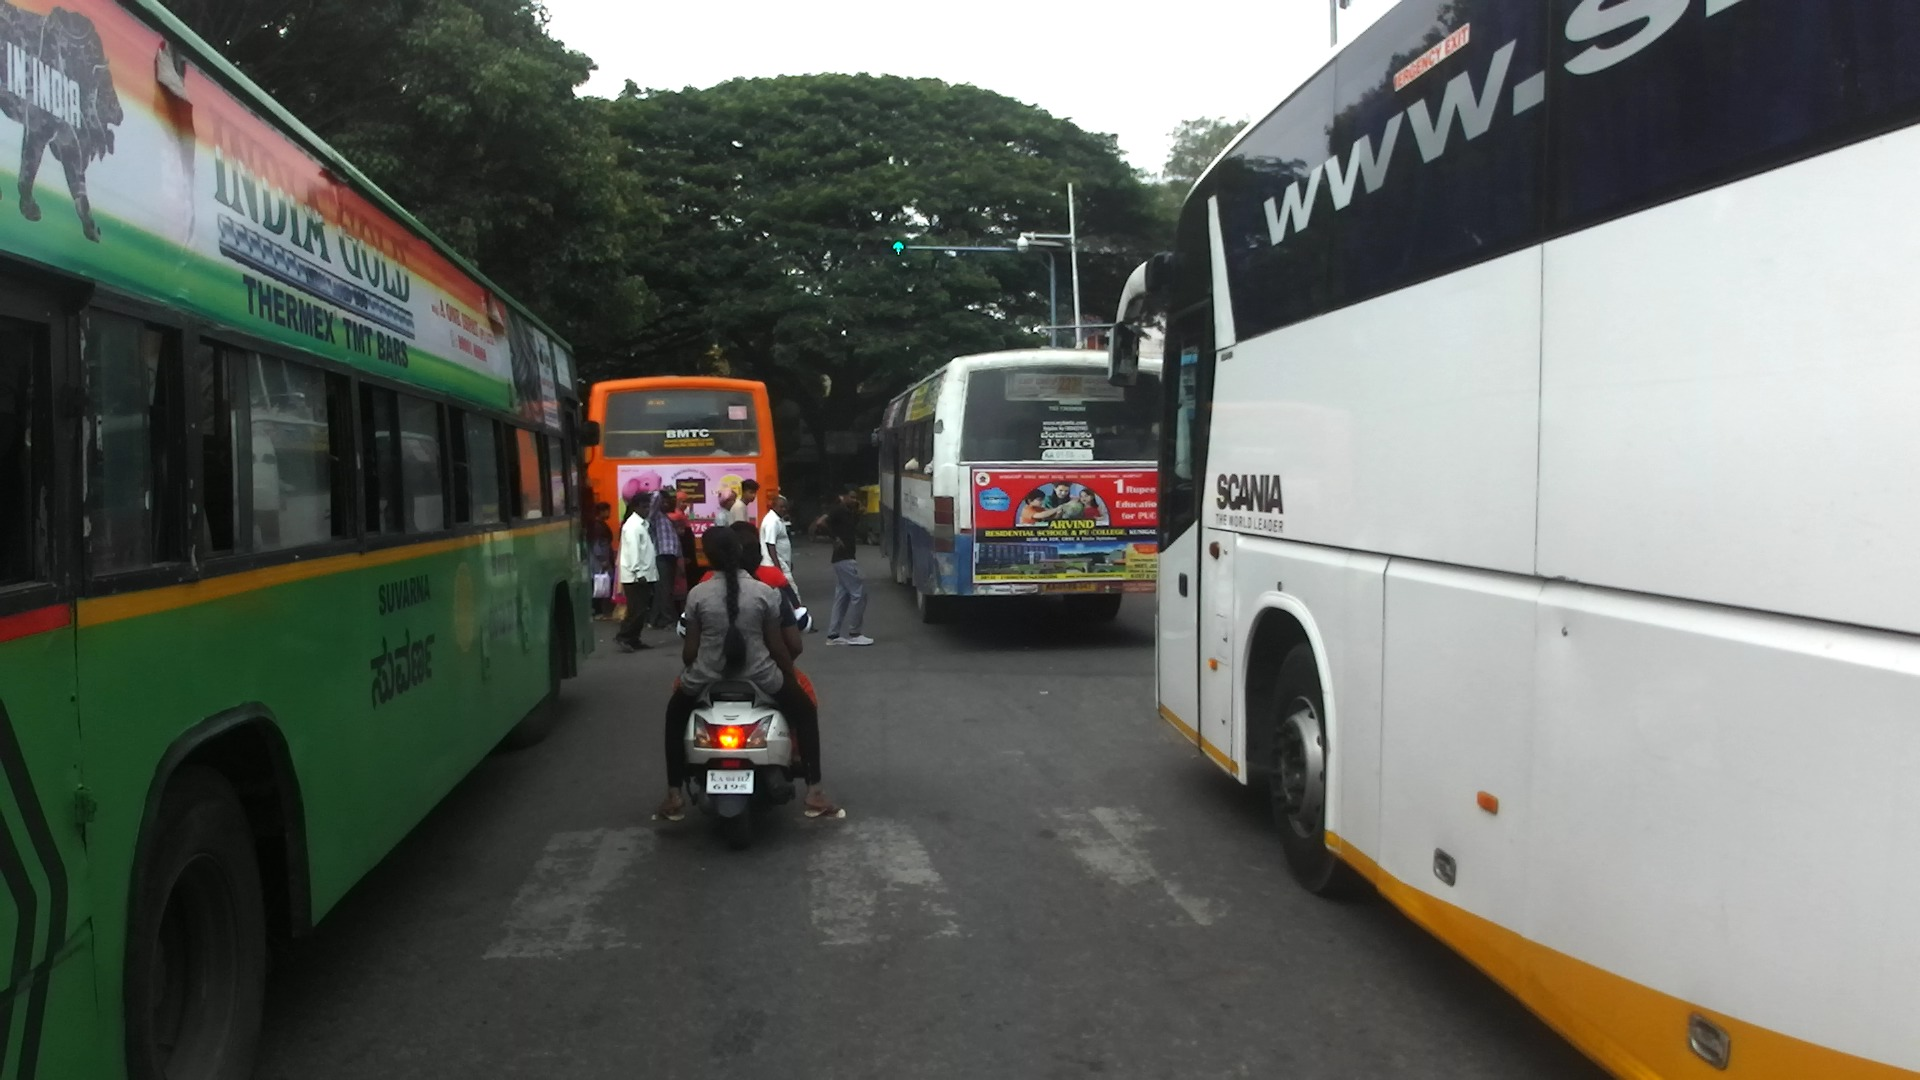autorickshaw: (850, 483, 882, 546)
bus: (1110, 1, 1920, 1078), (1, 1, 600, 1080), (869, 347, 1172, 623), (582, 374, 780, 595)
motorcycle: (667, 596, 806, 848), (783, 512, 792, 536)
person: (818, 482, 875, 650), (614, 493, 660, 653), (647, 488, 679, 635), (761, 491, 799, 601), (671, 490, 699, 613), (591, 504, 619, 623), (612, 503, 634, 625), (731, 479, 759, 526), (715, 488, 735, 524)
rider: (652, 526, 845, 823), (701, 518, 818, 768), (684, 535, 801, 692), (776, 486, 786, 502)
traffic light: (831, 238, 907, 251)
vehicle fallback: (788, 487, 858, 542)
